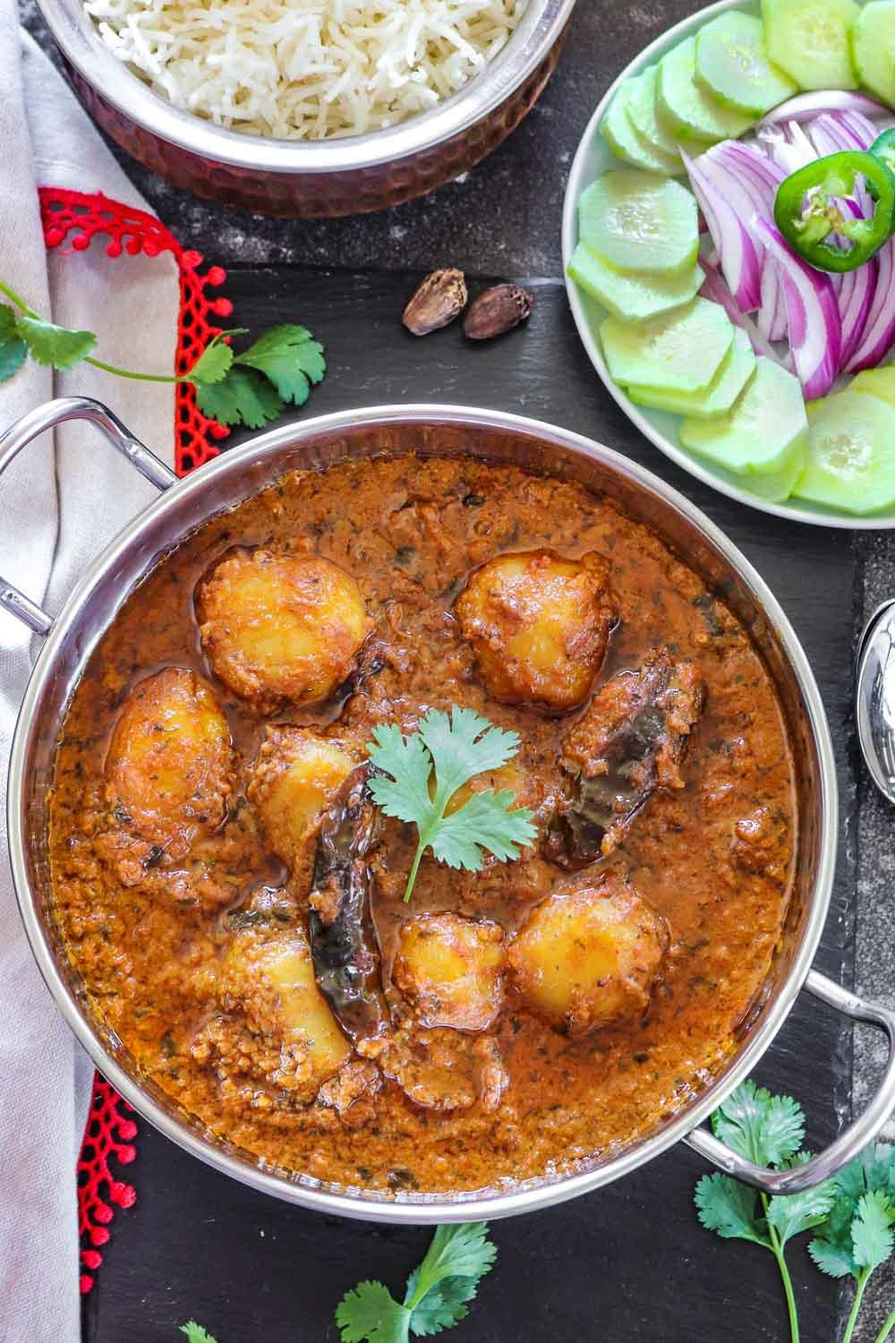DumAloo: (34, 426, 800, 1188)
WhiteRice: (85, 0, 520, 142)
